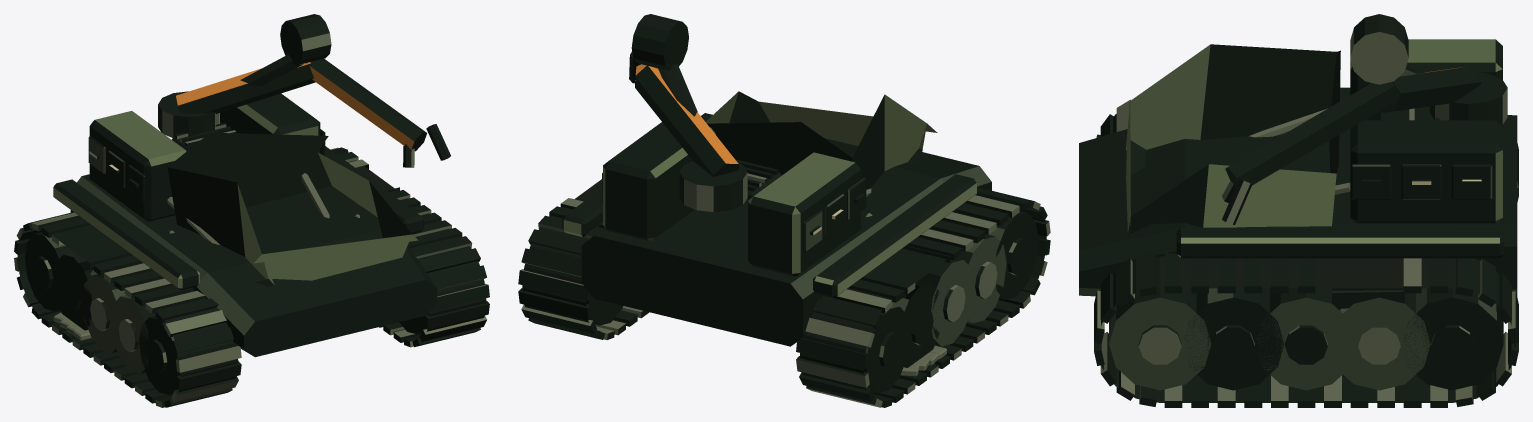
The model's file is wreck_repairCrawler.obj.
3 views of the same model, side by side, from view 1: azimuth 30°, elevation 25°; view 2: azimuth 150°, elevation 25°; view 3: azimuth 270°, elevation 25° (orthographic). The views are drawn at different scales.
Visible parts, largest first — view 1: Body.012; view 2: Body.012; view 3: Body.012.
Part boxes in pixels (x1=…): Body.012: x1=14, y1=14, x2=489, y2=407; Body.012: x1=518, y1=14, x2=1050, y2=407; Body.012: x1=1079, y1=14, x2=1518, y2=407.
Size of the model in its own units: 7.3 by 5.66 by 6.64.
Materials: 1 (1 with a texture image).
